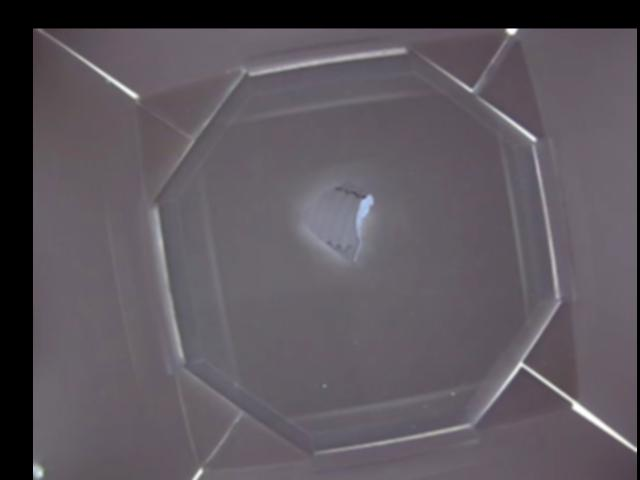China: (301, 176, 371, 258)
